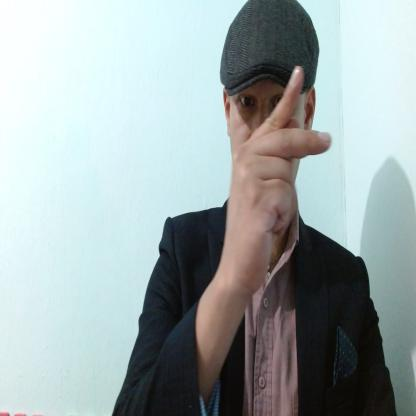P: (223, 62, 334, 301)
